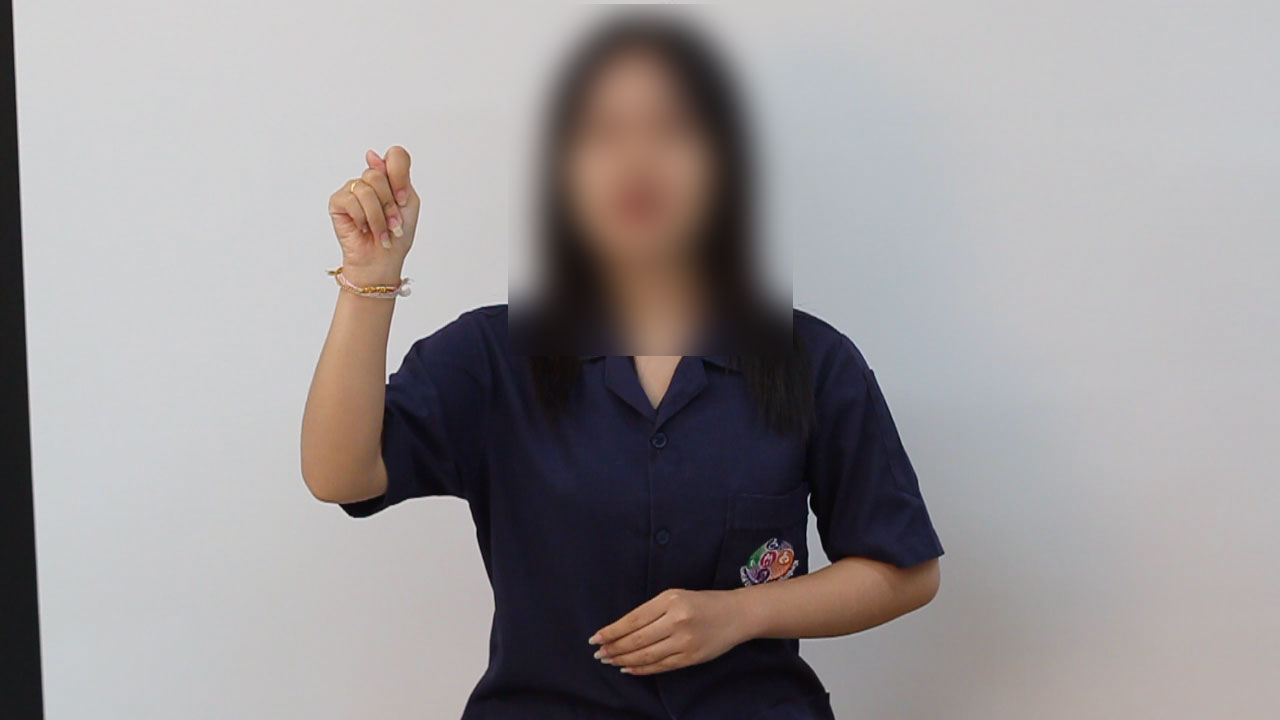tor: (296, 136, 450, 283)
